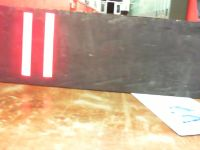switch: (20, 12, 33, 77), (42, 12, 55, 77)
